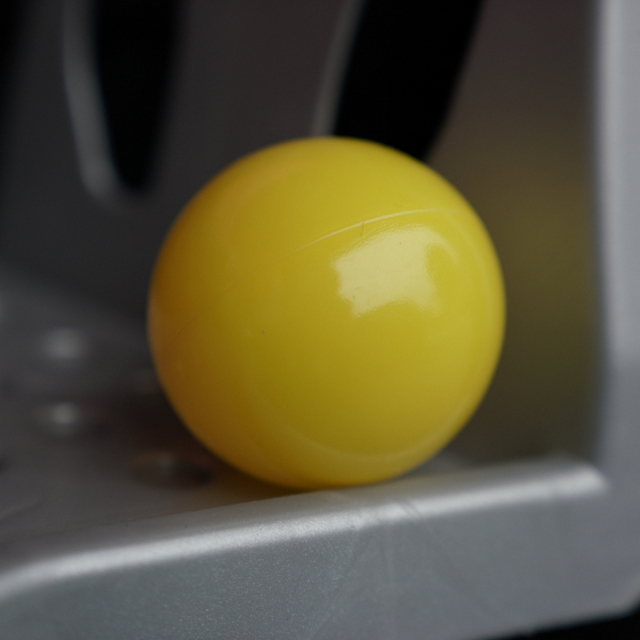Ball: (140, 135, 508, 500)
